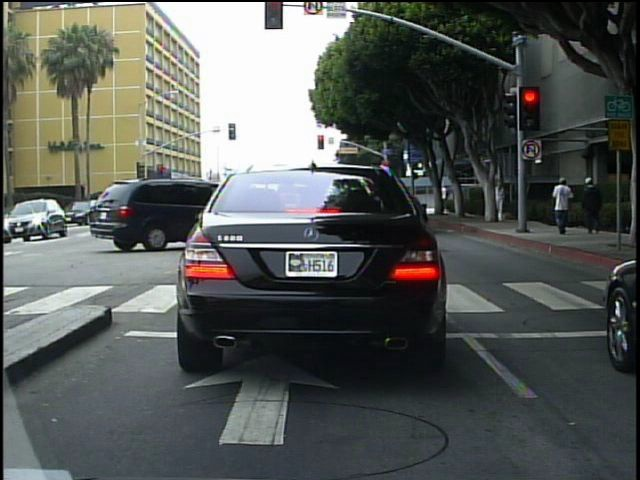person: (583, 167, 608, 240), (552, 173, 578, 236), (493, 177, 509, 222), (437, 179, 451, 214)
